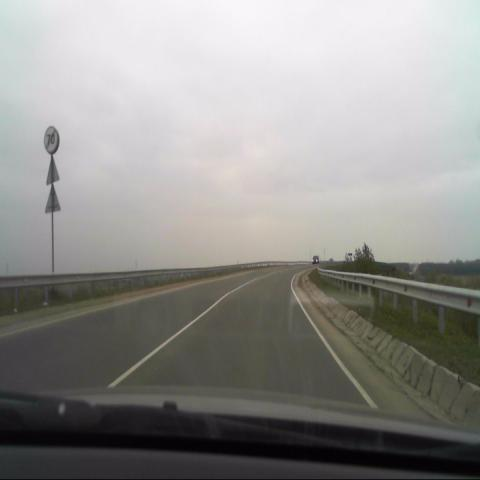3_25: (44, 126, 58, 156)
